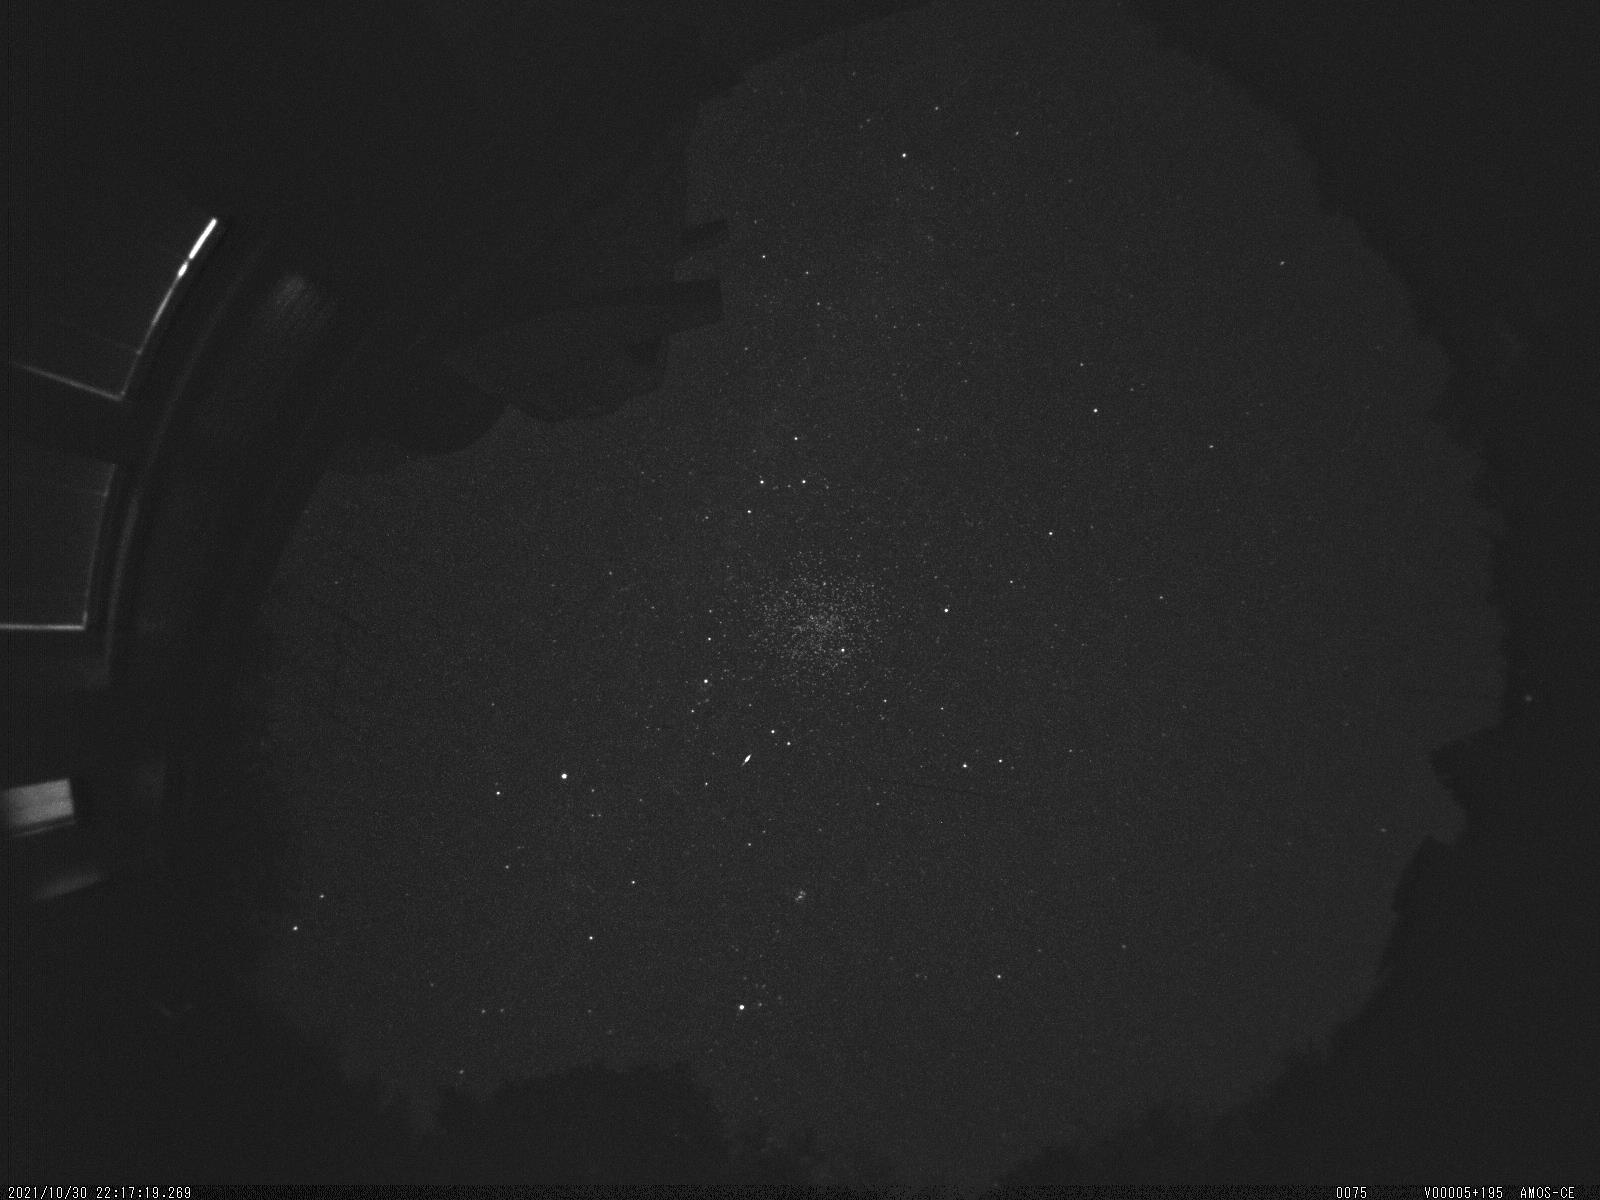Meteor: (737, 747, 755, 771)
